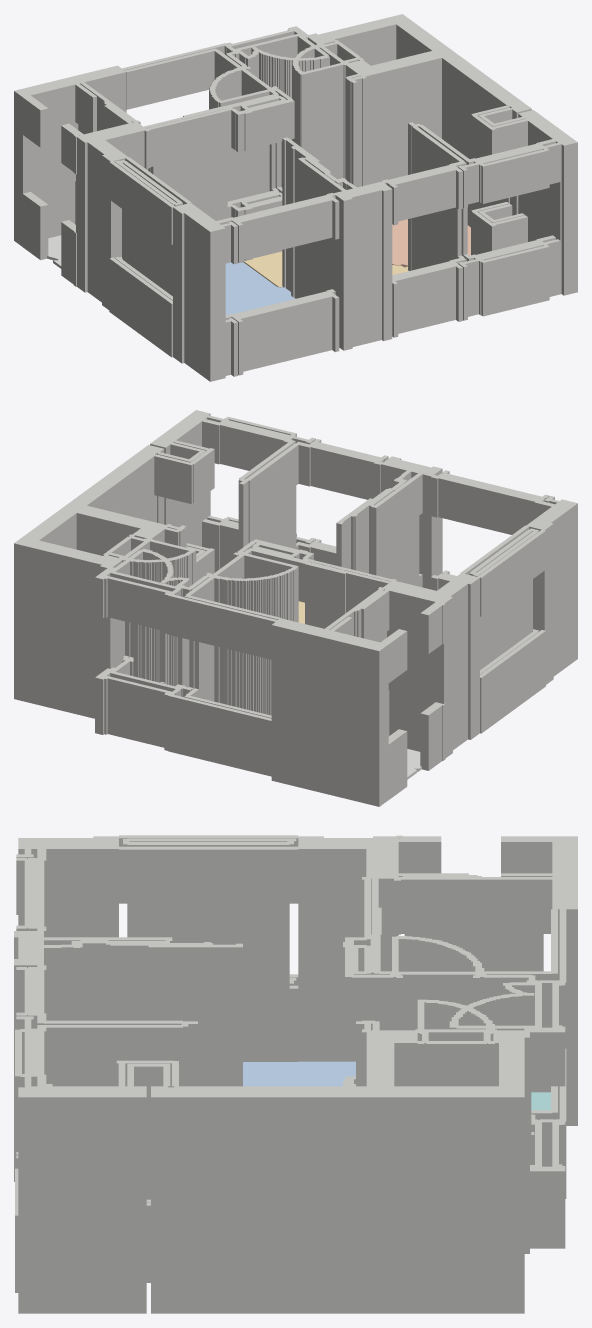
3 views of the same model, one above another, from view 1: azimuth 30°, elevation 25°; view 2: azimuth 150°, elevation 25°; view 3: azimuth 270°, elevation 25° (orthographic). The views are drawn at different scales.
Visible parts, largest first — view 1: walls, room:bedroom:2, room:living:4, room:kitchen:5; view 2: walls; view 3: walls, room:bedroom:2.
Part boxes in pixels (<box>): walls: <box>14,14,577,381</box>; room:bedroom:2: <box>225,262,295,314</box>; room:living:4: <box>243,251,408,287</box>; room:kitchen:5: <box>392,219,470,267</box>; walls: <box>14,410,577,806</box>; walls: <box>14,835,577,1313</box>; room:bedroom:2: <box>243,1061,355,1086</box>.
Bounding box in the file's own units: 7.26 × 2.8 × 6.61.
